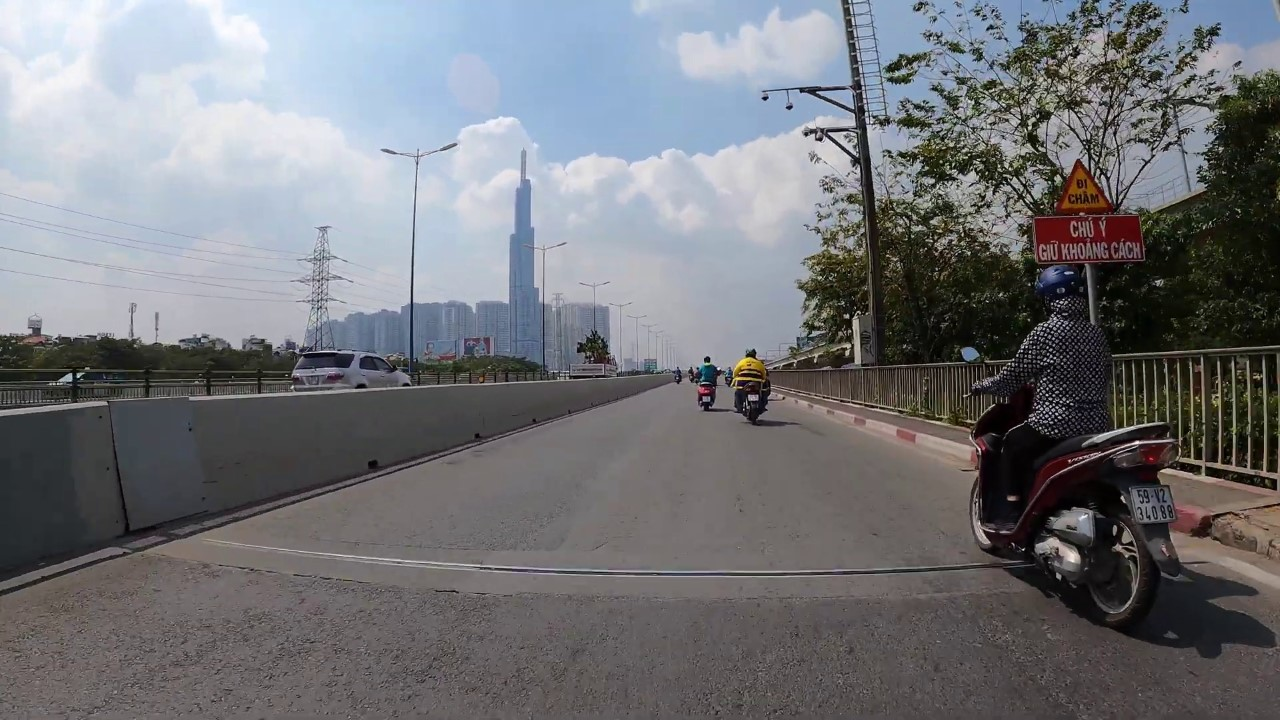di_cham: (1053, 159, 1113, 213)
